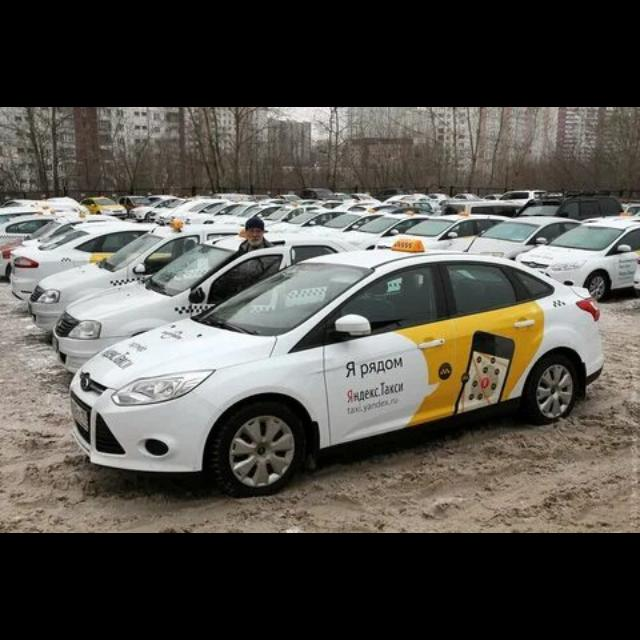taxi: (69, 235, 605, 499)
